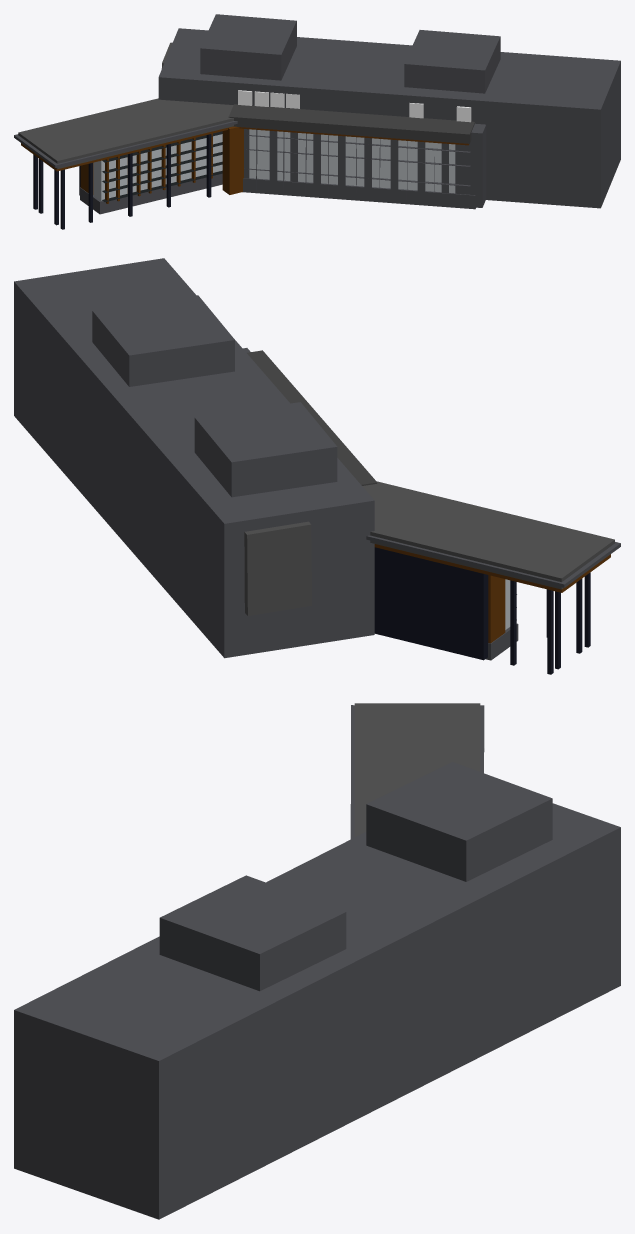
File: LIB.fbx
3 views of the same model, one above another, from view 1: azimuth 30°, elevation 25°; view 2: azimuth 150°, elevation 25°; view 3: azimuth 270°, elevation 25° (orthographic). The views are drawn at different scales.
Visible parts, largest first — view 1: Plane.003; view 2: Plane.003; view 3: Plane.003.
Boxes of the visible parts, x1,y1,x2,y2 form: Plane.003: [14, 14, 620, 229]; Plane.003: [14, 258, 620, 674]; Plane.003: [14, 703, 620, 1219].
Size of the model in its own units: 1418 by 337 by 918.
